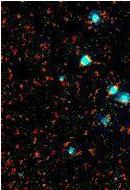star: (21, 135, 51, 165)
